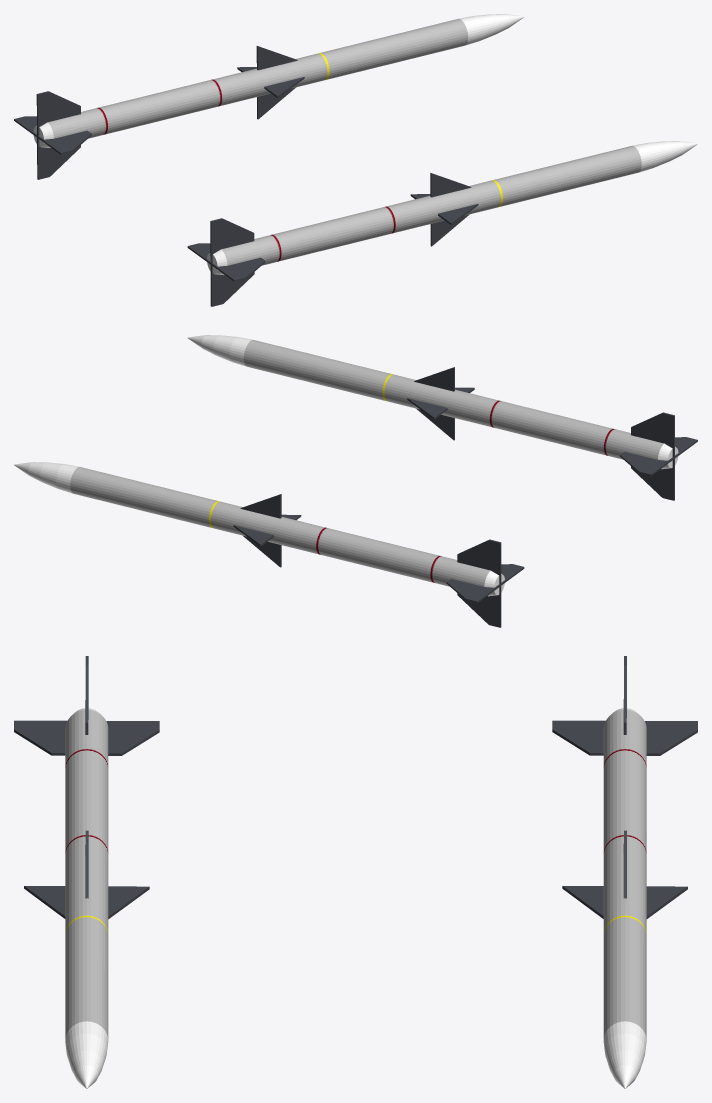
Rendered from aim120fa18e56.glb.
3 renders of one model, top to bottom at view 1: azimuth 30°, elevation 25°; view 2: azimuth 150°, elevation 25°; view 3: azimuth 270°, elevation 25°, orthographic. The views are drawn at different scales.
Parts seen in each view (by area): view 1: 円柱.001, 円柱.002; view 2: 円柱.002, 円柱.001; view 3: 円柱.001, 円柱.002.
Part boxes in pixels (x1,y1,x2,y2): 円柱.001: [187, 141, 697, 306]; 円柱.002: [14, 14, 524, 179]; 円柱.002: [14, 462, 524, 627]; 円柱.001: [187, 335, 697, 500]; 円柱.001: [14, 656, 159, 1088]; 円柱.002: [552, 656, 697, 1088].
Bounding box in the file's own units: 4.39 × 0.733 × 3.44.
Materials: 4 (4 with a texture image).
